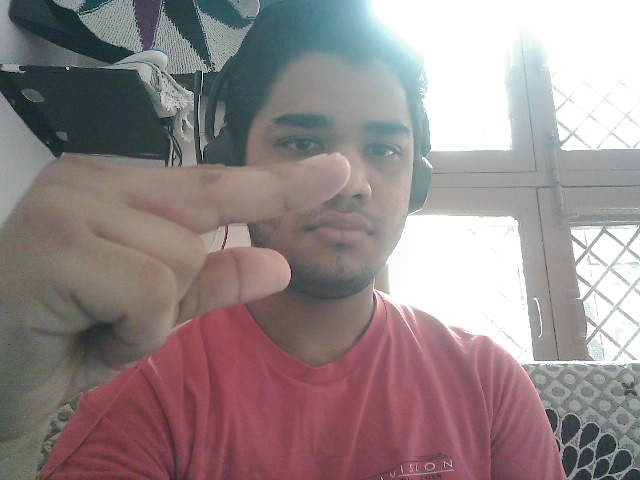No: (1, 150, 351, 387)
